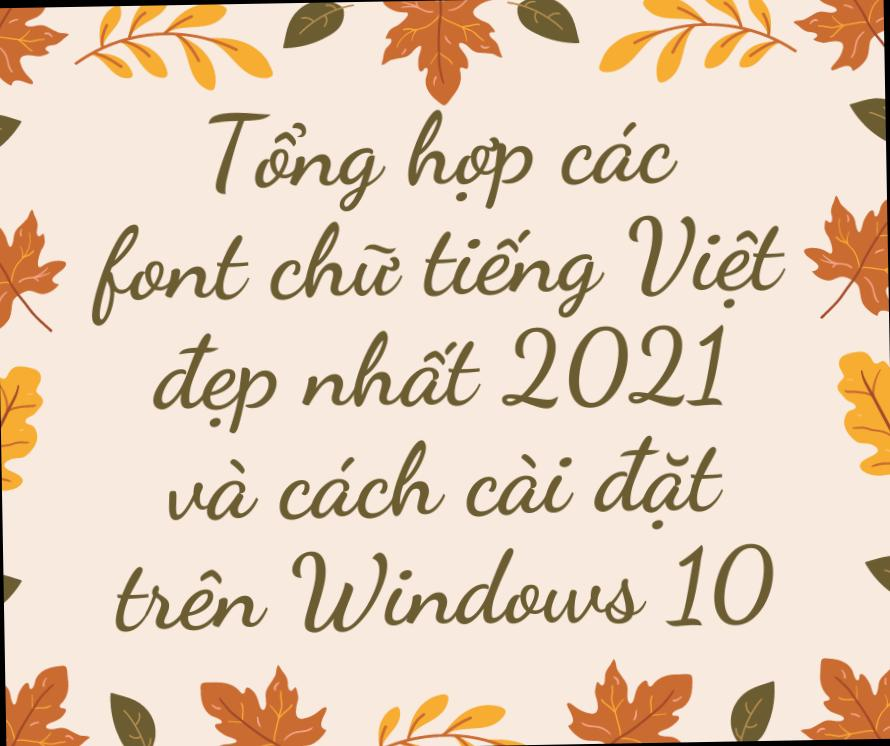text: (81, 206, 790, 330), (111, 536, 780, 644), (148, 318, 729, 440), (164, 428, 730, 541), (205, 100, 682, 218)
